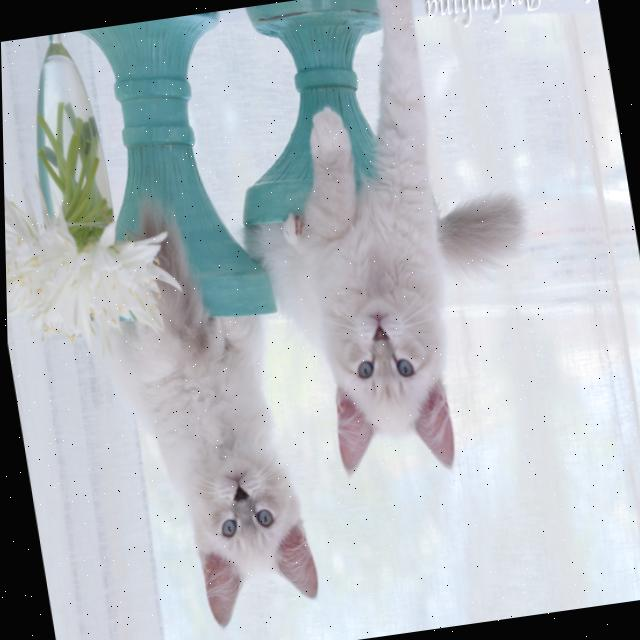Neva Masquerade: (216, 0, 567, 497), (73, 194, 325, 640)
